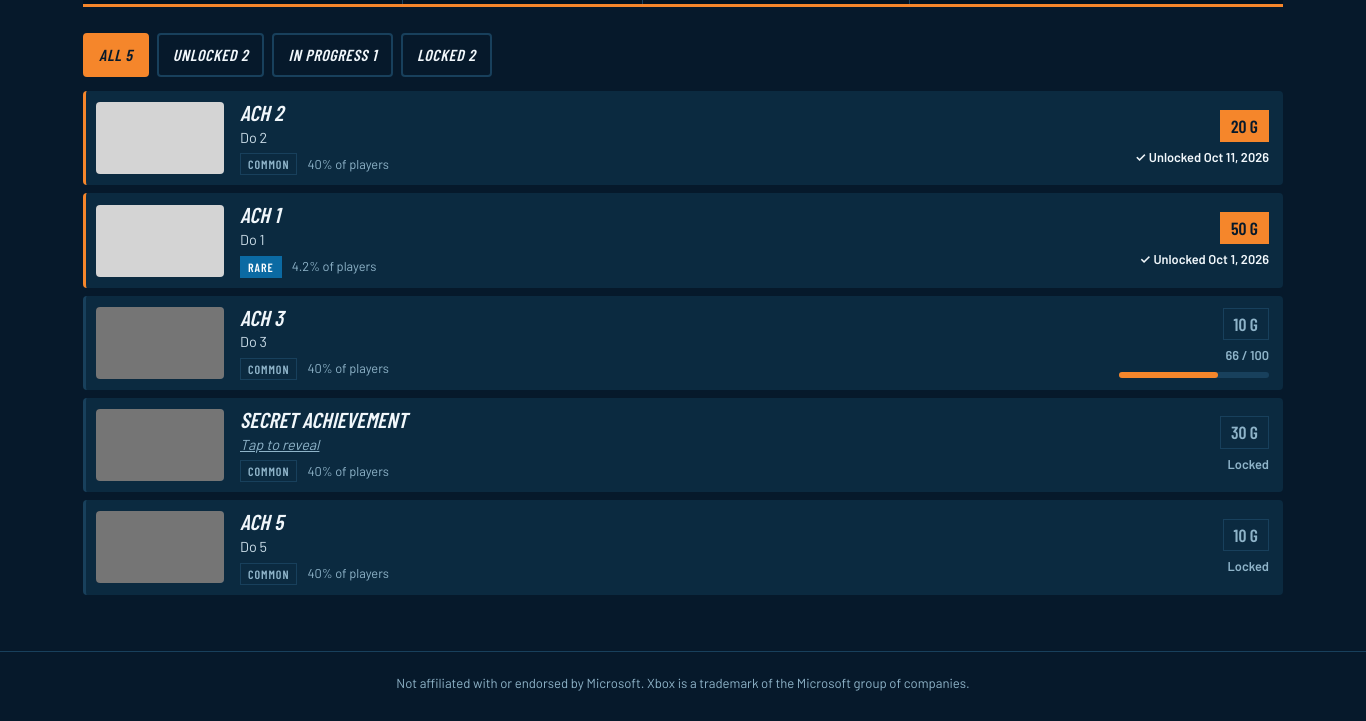
Scenario: achievements › shows achievements newest first, filters them, and keeps secrets hidden until revealed
(page scrolled)
Expected: the text "Do 4" is not shown
Click the button "Tap to reveal" at [280, 444], box [240,434,319,455]
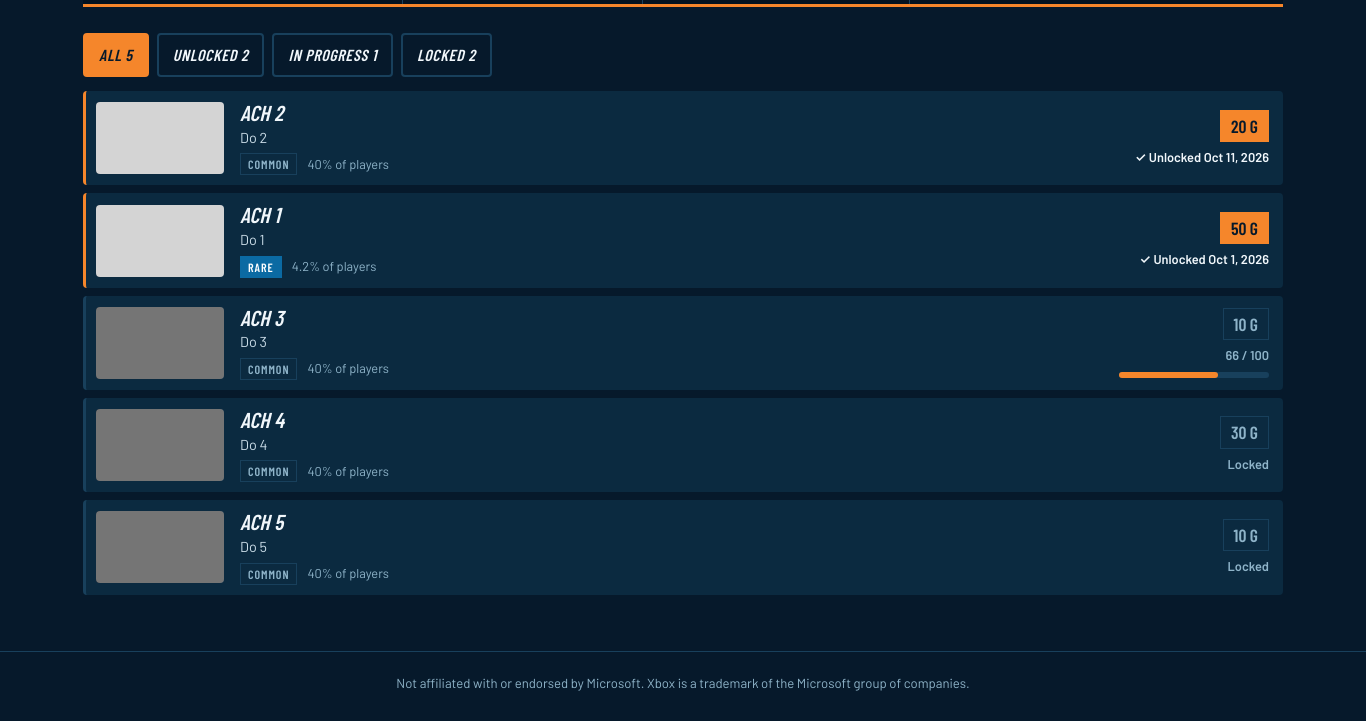
Expected: the text "Do 4" is shown, [240,436,268,453]
Click the button "Unlocked 2" at [211, 55], box [157,33,264,77]
(page scrolled)
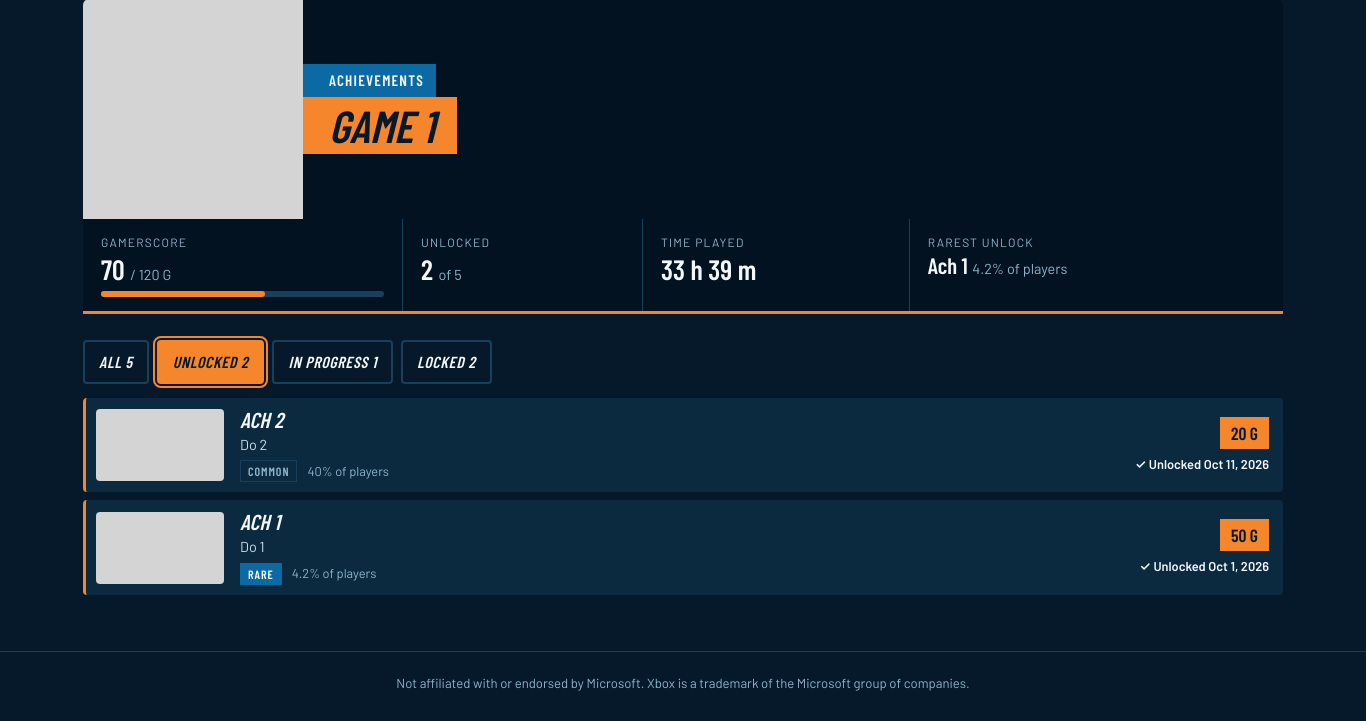
Click the button "In progress 1" at [333, 362], box [272,340,393,384]
(page scrolled)
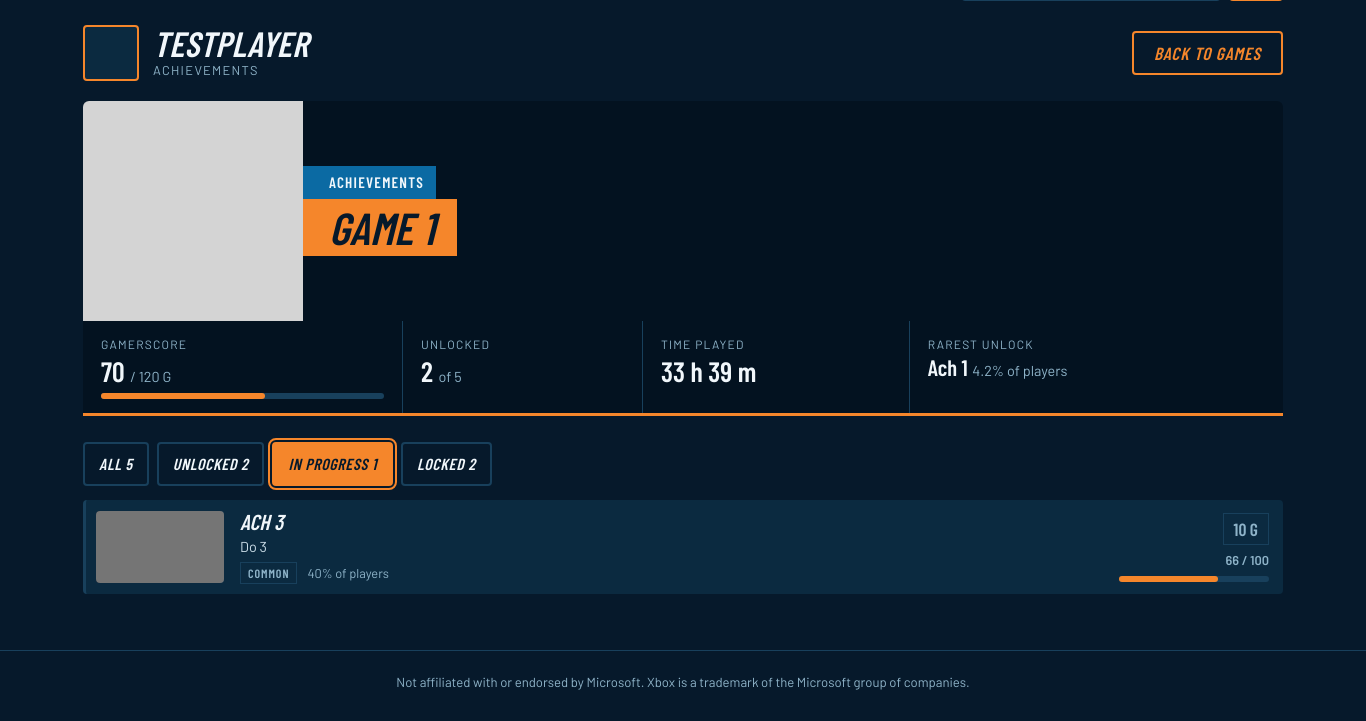
Expected: the text "66 / 100" is shown, [1226,551,1269,570]
